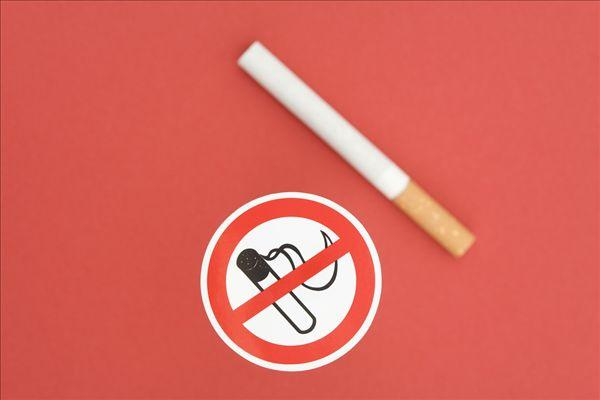smoke: (232, 27, 477, 257)
